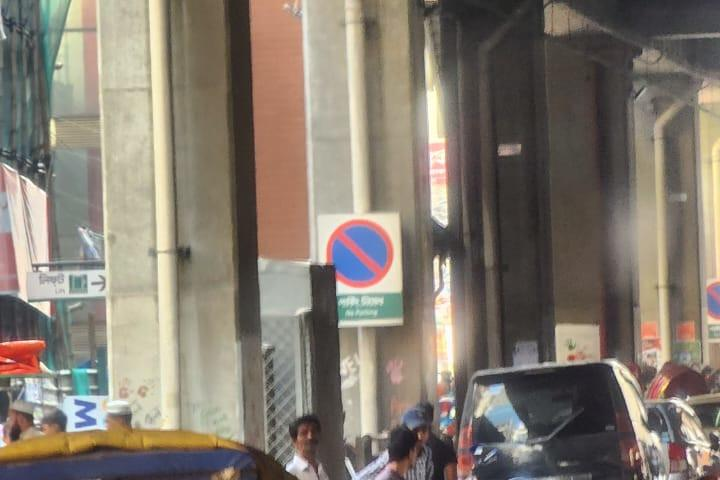No Parking: (317, 210, 405, 327)
